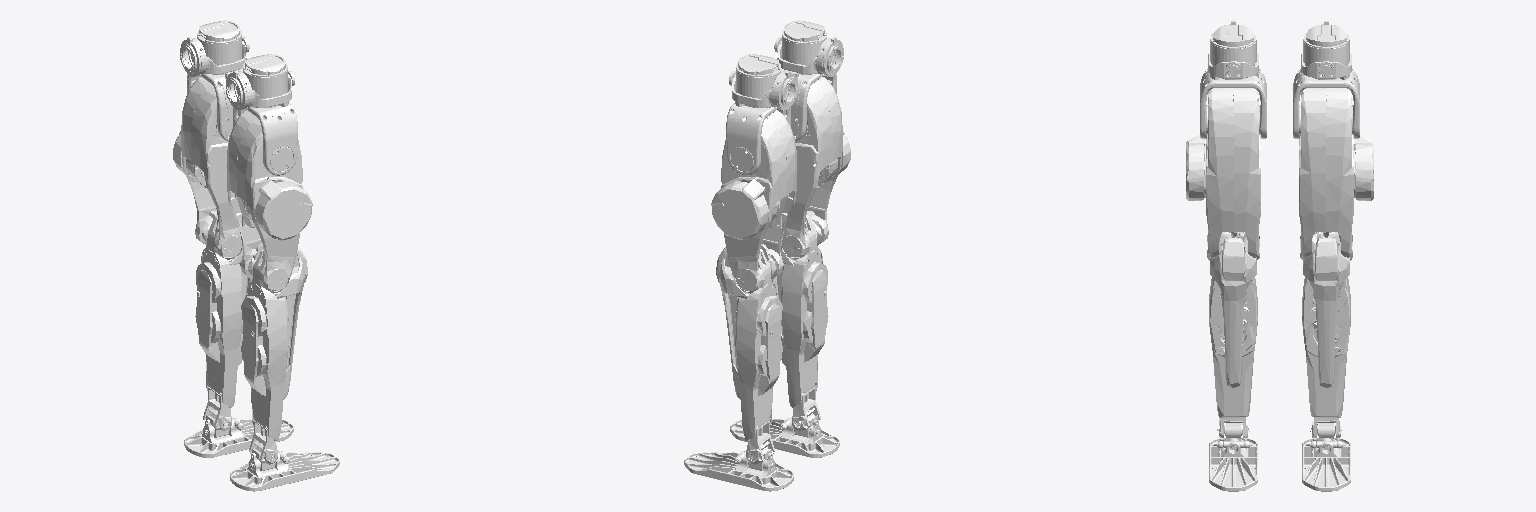
The robot description file, URDF, robot "biped_v3":
<?xml version="1.0" ?>
<!-- =================================================================================== -->
<!-- |    This document was autogenerated by xacro from /home/fandes/workspace/kuavo-ros-control/src/humanoid-control/humanoid_interface_drake/models/biped_gen4.2/urdf/biped_v3.xacro | -->
<!-- |    EDITING THIS FILE BY HAND IS NOT RECOMMENDED                                 | -->
<!-- =================================================================================== -->
<robot name="biped_v3" xmlns:drake="https://drake.mit.edu">
  <link name="torso">
   <inertial>
    <!-- 质心：( -0.05495950, -0.00028705, -0.01468007 ) -->
    <origin xyz="-0.05495950 -0.00028705 -0.01468007" rpy="0 0 0" />
    <!-- 质量：7.06404632 kg -->
    <mass value="7.06405" />
    <!-- ✅ 由重心决定，并且对齐输出的坐标系（使用负张量记数法）- 来自torso Lxx/Lyy/Lzz -->
    <inertia
      ixx="0.07432439"
      ixy="0.0"
      ixz="-0.01900645"
      iyy="0.05497594"
      iyz="0.0"
      izz="0.07548789" />
    </inertial>
    <visual>
      <origin xyz="0 0 0" rpy="0 0 0" />
      <geometry>
        <mesh filename="../../meshes/torso.STL" />
      </geometry>
      <material name="">
        <color rgba="0.752941176470588 0.752941176470588 0.752941176470588 1" />
      </material>
    </visual>
    <!-- <collision>
      <origin xyz="0 0 0" rpy="0 0 0" />
      <geometry>
        <mesh filename="../../meshes/torso.STL" />
      </geometry>
    </collision> -->
  </link>
  <link name="waist_yaw_link">
    <inertial>
      <!-- 质心：( -0.00044187, -0.00068282, 0.16674017 ) -->
      <origin xyz="0.04044187 -0.00068282 0.16674017" rpy="0 0 0" />
      <!-- 质量：17.11065787 kg -->
      <mass value="33.54346" />
      <!-- ✅ 由重心决定，并且对齐输出的坐标系（使用负张量记数法）- 来自waist_yaw Lxx/Lyy/Lzz -->
      <inertia
        ixx="0.34143343"
        ixy="0.0"
        ixz="0.0"
        iyy="0.25757527"
        iyz="0.0"
        izz="0.20167280" />
    </inertial>
    <visual>
      <origin xyz="0 0 0" rpy="0 0 0" />
      <geometry>
        <mesh filename="../../meshes/waist_yaw.STL" />
      </geometry>
      <material name="">
        <color rgba="1 1 1 1" />
      </material>
    </visual>
  </link>
  <joint name="waist_yaw_joint" type="fixed">
    <origin xyz="0 0 0.1114" rpy="0 0 0" />
    <parent link="torso" />
    <child link="waist_yaw_link" />
    <axis xyz="0 0 1" />
    <limit lower="-3.14159" upper="3.14159" effort="102.0" velocity="8.7" />
    <dynamics damping="0.02" friction="0.0" />
  </joint>
   <!-- ============ l_leg_roll ============ -->
  <!-- 坐标系：l_leg_yaw_roll -->
  <!-- 对称源：r_leg_roll (X-Z平面对称) -->
  <link name="leg_l1_link">
    <inertial>
      <!-- 质心：右腿(-0.00560896, -0.00032862, -0.00212773) -> 左腿(-0.00560896, +0.00032862, -0.00212773) -->
      <origin xyz="-0.00560896 0.00032862 -0.00212773" rpy="0 0 0" />
      <!-- 质量：1.55641268 kg -->
      <mass value="1.55641" />
      <!-- ✅ 惯性张量：由重心决定，对齐输出坐标系，负张量记数法，ixy/ixz/iyz符号取反 -->
      <inertia
        ixx="0.00191127"
        ixy="-0.00001633"      
        ixz="-0.00000320"     
        iyy="0.00254335"
        iyz="0.00000055"     
        izz="0.00260594" />
    </inertial>
    <visual>
      <origin xyz="0 0 0" rpy="0 0 0" />
      <geometry>
        <mesh filename="../../meshes/l_leg_roll.STL" />
      </geometry>
      <material name="">
        <color rgba="1 1 1 1" />
      </material>
    </visual>
  </link>
  <joint name="leg_l1_joint" type="revolute">
    <origin xyz="0.0 0.095075 -0.066" rpy="0 0 0" />
    <parent link="torso" />
    <child link="leg_l1_link" />
    <axis xyz="1 0 0" />
    <limit lower="-0.314159265358979" upper="0.663225115757845" effort="127.0" velocity="10.4" />
    <dynamics damping="0.02" friction="0.0" />
  </joint>
  <transmission type="SimpleTransmission">
    <joint name="leg_l1_joint" />
    <actuator name="leg_l1_joint_motor" />
  </transmission>
  <!-- ============ l_leg_yaw ============ -->
  <!-- 坐标系：l_leg_yaw_roll -->
  <!-- 对称源：r_leg_yaw (X-Z平面对称) -->
  <link name="leg_l2_link">
    <inertial>
      <!-- 质心：右腿(0.00006341, 0.00960017, -0.09308949) -> 左腿(0.00006341, -0.00960017, -0.09308949) -->
      <origin xyz="0.00006341 -0.00960017 -0.09308949" rpy="0 0 0" />
      <!-- 质量：0.75872512 kg -->
      <mass value="0.75873" />
      <!-- ✅ 惯性张量：由重心决定，对齐输出坐标系，负张量记数法，ixy/ixz/iyz符号取反 -->
      <inertia
        ixx="0.00348980"
        ixy="0.00000617"     
        ixz="-0.00000543"      
        iyy="0.00201021"
        iyz="-0.00030265"      
        izz="0.00236363" />
    </inertial>
    <visual>
      <origin xyz="0 0 0" rpy="0 0 0" />
      <geometry>
        <mesh filename="../../meshes/l_leg_yaw.STL" />
      </geometry>
      <material name="">
        <color rgba="1 1 1 1" />
      </material>
    </visual>
  </link>
  <joint name="leg_l2_joint" type="revolute">
    <origin xyz="0 0 0" rpy="0 0 0" />
    <parent link="leg_l1_link" />
    <child link="leg_l2_link" />
    <axis xyz="0 0 1" />
    <limit lower="-0.785398163397448" upper="1.91986217719376" effort="71.0" velocity="8.7" />
    <dynamics damping="0.02" friction="0.0" />
  </joint>
  <transmission type="SimpleTransmission">
    <joint name="leg_l2_joint" />
    <actuator name="leg_l2_joint_motor" />
  </transmission>
  <!-- ============ l_leg_pitch ============ -->
  <!-- 坐标系：l_leg_pitch -->
  <!-- 对称源：r_leg_pitch (X-Z平面对称) -->
  <link name="leg_l3_link">
    <inertial>
      <!-- 质心：右腿(0.00273544, -0.01478421, -0.09011501) -> 左腿(0.00273544, +0.01478421, -0.09011501) -->
      <origin xyz="0.00273544 0.01478421 -0.09011501" rpy="0 0 0" />
      <!-- 质量：6.68074305 kg -->
      <mass value="6.68074" />
      <!-- ✅ 惯性张量：由重心决定，对齐输出坐标系，负张量记数法，ixy/ixz/iyz符号取反 -->
      <inertia
        ixx="0.06155086"
        ixy="0.00016595"      
        ixz="-0.00169943"      
        iyy="0.05999156"
        iyz="0.00073898"     
        izz="0.01575336" />
    </inertial>
    <visual>
      <origin xyz="0 0 0" rpy="0 0 0" />
      <geometry>
        <mesh filename="../../meshes/l_leg_pitch.STL" />
      </geometry>
      <material name="">
        <color rgba="1 1 1 1" />
      </material>
    </visual>
  </link>
  <joint name="leg_l3_joint" type="revolute">
    <origin xyz="0 0 -0.1437" rpy="0 0 0" />
    <parent link="leg_l2_link" />
    <child link="leg_l3_link" />
    <axis xyz="0 1 0" />
    <limit lower="-1.91986217719376" upper="1.5707963267949" effort="132" velocity="12.7" />
    <dynamics damping="0.02" friction="0.0" />
  </joint>
  <transmission type="SimpleTransmission">
    <joint name="leg_l3_joint" />
    <actuator name="leg_l3_joint_motor" />
  </transmission>
  <!-- ============ l_knee ============ -->
  <!-- 坐标系：l_knee -->
  <!-- 对称源：r_knee (X-Z平面对称) -->
  <link name="leg_l4_link">
    <inertial>
      <!-- 质心：右腿(0.00684787, -0.00006281, -0.16262733) -> 左腿(0.00684787, +0.00006281, -0.16262733) -->
      <origin xyz="0.00684787 0.00006281 -0.16262733" rpy="0 0 0" />
      <!-- 质量：3.64665831 kg -->
      <mass value="3.64666" />
      <!-- ✅ 惯性张量：由重心决定，对齐输出坐标系，负张量记数法，ixy/ixz/iyz符号取反 -->
      <inertia
        ixx="0.04372691"
        ixy="0.00000494"     
        ixz="0.00053020"      
        iyy="0.04357016"
        iyz="-0.00006946"      
        izz="0.00246985" />
    </inertial>
    <visual>
      <origin xyz="0 0 0" rpy="0 0 0" />
      <geometry>
        <mesh filename="../../meshes/l_knee.STL" />
      </geometry>
      <material name="">
        <color rgba="1 1 1 1" />
      </material>
    </visual>
  </link>
  <joint name="leg_l4_joint" type="revolute">
    <origin xyz="-0.0011639 0 -0.284" rpy="0 0 0" />
    <parent link="leg_l3_link" />
    <child link="leg_l4_link" />
    <axis xyz="0 1 0" />
    <limit lower="0.0" upper="2.53072741539178" effort="280.0" velocity="10.4" />
    <dynamics damping="0.02" friction="0.0" />
  </joint>
  <transmission type="SimpleTransmission">
    <joint name="leg_l4_joint" />
    <actuator name="leg_l4_joint_motor" />
  </transmission>
  <!-- ============ l_foot_pitch ============ -->
  <!-- 坐标系：l_foot_pitch_roll -->
  <!-- 对称源：r_foot_pitch (完全对称) -->
  <link name="leg_l5_link">
    <inertial>
      <origin xyz="0.00000366 0.00000000 -0.01009408" rpy="0 0 0" />
      <mass value="0.33065201" />
      <inertia
        ixx="0.00009895"
        ixy="0.00000000"
        ixz="-0.00000221"
        iyy="0.00010782"
        iyz="0.00000000"
        izz="0.00007010" />
    </inertial>
    <visual>
      <origin xyz="0 0 0" rpy="0 0 0" />
      <geometry>
        <mesh filename="../../meshes/l_foot_pitch.STL" />
      </geometry>
      <material name="">
        <color rgba="1 1 1 1" />
      </material>
    </visual>
  </link>
  <joint name="leg_l5_joint" type="revolute">
    <origin xyz="0.00 0 -0.416" rpy="0 0 0" />
    <parent link="leg_l4_link" />
    <child link="leg_l5_link" />
    <axis xyz="0 1 0" />
    <limit lower="-0.872664625997165" upper="0.349065850398866" effort="91.6" velocity="17.8" />
    <dynamics damping="0.02" friction="0.0" />
  </joint>
  <transmission type="SimpleTransmission">
    <joint name="leg_l5_joint" />
    <actuator name="leg_l5_joint_motor" />
  </transmission>
  <!-- ============ l_foot_roll ============ -->
  <!-- 坐标系：l_foot_pitch_roll -->
  <!-- 对称源：r_foot_roll (完全对称，用户覆盖值相同) -->
  <link name="leg_l6_link">
    <inertial>
      <origin xyz="0.02559622 0.00000252 -0.01847798" rpy="0 0 0" />
      <mass value="0.85589925" />
      <inertia
        ixx="0.00064292"
        ixy="-0.00000015"
        ixz="0.00015309"
        iyy="0.00224000"
        iyz="0.00000000"
        izz="0.00249840" />
    </inertial>
    <visual>
      <origin xyz="0 0 0" rpy="0 0 0" />
      <geometry>
        <mesh filename="../../meshes/l_foot_roll.STL" />
      </geometry>
      <material name="">
        <color rgba="1 1 1 1" />
      </material>
    </visual>
  </link>
  <joint name="leg_l6_joint" type="revolute">
    <origin xyz="0 0 -0.023" rpy="0 0 0" />
    <parent link="leg_l5_link" />
    <child link="leg_l6_link" />
    <axis xyz="1 0 0" />
    <limit lower="-0.261799387799149" upper="0.261799387799149" effort="30.0" velocity="17.8" />
    <dynamics damping="0.02" friction="0.0" />
  </joint>
  <transmission type="SimpleTransmission">
    <joint name="leg_l6_joint" />
    <actuator name="leg_l6_joint_motor" />
  </transmission>
  <frame link="leg_l6_link" name="l_foot_sole" xyz="0.04883799999999999 0.0 -0.0365" />
  <frame link="leg_l6_link" name="l_foot_toe" xyz="0.17084 0.0 -0.0365" />
  <frame link="leg_l6_link" name="l_foot_heel" xyz="-0.073164 0.0 -0.0365" />
  <!-- ============ r_leg_roll ============ -->
  <!-- 坐标系：r_leg_roll_yaw -->
  <link name="leg_r1_link">
    <inertial>
      <!-- 质心：( -0.00560896, -0.00032862, -0.00212773 ) -->
      <origin xyz="-0.00560896 -0.00032862 -0.00212773" rpy="0 0 0" />
      <!-- 质量：1.55641268 kg -->
      <mass value="1.55641" />
      <!-- ✅ 由重心决定，并且对齐输出的坐标系（使用负张量记数法） -->
      <inertia
        ixx="0.00191127"
        ixy="0.00001633"
        ixz="0.00000320"
        iyy="0.00254335"
        iyz="-0.00000055"
        izz="0.00260594" />
    </inertial>
    <visual>
      <origin xyz="0 0 0" rpy="0 0 0" />
      <geometry>
        <mesh filename="../../meshes/r_leg_roll.STL" />
      </geometry>
      <material name="">
        <color rgba="1 1 1 1" />
      </material>
    </visual>
  </link>
  <joint name="leg_r1_joint" type="revolute">
    <origin xyz="0.0 -0.095075 -0.066" rpy="0 0 0" />
    <parent link="torso" />
    <child link="leg_r1_link" />
    <axis xyz="1 0 0" />
    <limit lower="-0.663225115757845" upper="0.314159265358979" effort="127.0" velocity="10.4" />
    <dynamics damping="0.02" friction="0.0" />
  </joint>
  <transmission type="SimpleTransmission">
    <joint name="leg_r1_joint" />
    <actuator name="leg_r1_joint_motor" />
  </transmission>
  <!-- ============ r_leg_yaw ============ -->
  <!-- 坐标系：r_leg_roll_yaw -->
  <link name="leg_r2_link">
    <inertial>
      <!-- 质心：( 0.00006341, 0.00960017, -0.09308949 ) -->
      <origin xyz="0.00006341 0.00960017 -0.09308949" rpy="0 0 0" />
      <!-- 质量：0.75872512 kg -->
      <mass value="0.75873" />
      <!-- ✅ 由重心决定，并且对齐输出的坐标系（使用负张量记数法） -->
      <inertia
        ixx="0.00348980"
        ixy="-0.00000617"
        ixz="0.00000543"
        iyy="0.00201021"
        iyz="0.00030265"
        izz="0.00236363" />
    </inertial>
    <visual>
      <origin xyz="0 0 0" rpy="0 0 0" />
      <geometry>
        <mesh filename="../../meshes/r_leg_yaw.STL" />
      </geometry>
      <material name="">
        <color rgba="1 1 1 1" />
      </material>
    </visual>
  </link>
  <joint name="leg_r2_joint" type="revolute">
    <origin xyz="0 0 0" rpy="0 0 0" />
    <parent link="leg_r1_link" />
    <child link="leg_r2_link" />
    <axis xyz="0 0 1" />
    <limit lower="-1.91986217719376" upper="0.785398163397448" effort="71.0" velocity="8.7" />
    <dynamics damping="0.02" friction="0.0" />
  </joint>
  <transmission type="SimpleTransmission">
    <joint name="leg_r2_joint" />
    <actuator name="leg_r2_joint_motor" />
  </transmission>
  <!-- ============ r_leg_pitch ============ -->
  <!-- 坐标系：r_leg_pitch -->
  <link name="leg_r3_link">
    <inertial>
      <!-- 质心：( 0.00273544, -0.01478421, -0.09011501 ) -->
      <origin xyz="0.00273544 -0.01478421 -0.09011501" rpy="0 0 0" />
      <!-- 质量：6.68074305 kg -->
      <mass value="6.68074" />
      <!-- ✅ 由重心决定，并且对齐输出的坐标系（使用负张量记数法） -->
      <inertia
        ixx="0.06155086"
        ixy="-0.00016595"
        ixz="0.00169943"
        iyy="0.05999156"
        iyz="-0.00073898"
        izz="0.01575336" />
    </inertial>
    <visual>
      <origin xyz="0 0 0" rpy="0 0 0" />
      <geometry>
        <mesh filename="../../meshes/r_leg_pitch.STL" />
      </geometry>
      <material name="">
        <color rgba="1 1 1 1" />
      </material>
    </visual>
  </link>
  <joint name="leg_r3_joint" type="revolute">
    <origin xyz="0 0 -0.1437" rpy="0 0 0" />
    <parent link="leg_r2_link" />
    <child link="leg_r3_link" />
    <axis xyz="0 1 0" />
    <limit lower="-1.91986217719376" upper="1.5707963267949" effort="132.0" velocity="12.7" />
    <dynamics damping="0.02" friction="0.0" />
  </joint>
  <transmission type="SimpleTransmission">
    <joint name="leg_r3_joint" />
    <actuator name="leg_r3_joint_motor" />
  </transmission>
  <!-- ============ r_knee ============ -->
  <!-- 坐标系：r_knee -->
  <link name="leg_r4_link">
    <inertial>
      <!-- 质心：( 0.00684787, -0.00006281, -0.16262733 ) -->
      <origin xyz="0.00684787 -0.00006281 -0.16262733" rpy="0 0 0" />
      <!-- 质量：3.64665831 kg -->
      <mass value="3.64666" />
      <!-- ✅ 由重心决定，并且对齐输出的坐标系（使用负张量记数法） -->
      <inertia
        ixx="0.04372691"
        ixy="-0.00000494"
        ixz="-0.00053020"
        iyy="0.04357016"
        iyz="0.00006946"
        izz="0.00246985" />
    </inertial>
    <visual>
      <origin xyz="0 0 0" rpy="0 0 0" />
      <geometry>
        <mesh filename="../../meshes/r_knee.STL" />
      </geometry>
      <material name="">
        <color rgba="1 1 1 1" />
      </material>
    </visual>
  </link>
  <joint name="leg_r4_joint" type="revolute">
    <origin xyz="-0.0011639 0 -0.284" rpy="0 0 0" />
    <parent link="leg_r3_link" />
    <child link="leg_r4_link" />
    <axis xyz="0 1 0" />
    <limit lower="0.0" upper="2.53072741539178" effort="280.0" velocity="10.4" />
    <dynamics damping="0.02" friction="0.0" />
  </joint>
  <transmission type="SimpleTransmission">
    <joint name="leg_r4_joint" />
    <actuator name="leg_r4_joint_motor" />
  </transmission>
  <!-- ============ r_foot_pitch ============ -->
  <!-- 坐标系：r_foot_pitch_roll -->
  <link name="leg_r5_link">
    <inertial>
      <!-- 质心：( 0, 0, 0 ) -->
      <origin xyz="0.00000366 0.00000000 -0.01009408" rpy="0 0 0" />
      <!-- 质量：0.07848005 kg -->
      <mass value="0.33065201" />
      <!-- ✅ 由重心决定，并且对齐输出的坐标系（使用负张量记数法）- 与输出坐标系相同因为质心在原点 -->
      <inertia
        ixx="0.00009895"
        ixy="0.00000000"
        ixz="-0.00000221"
        iyy="0.00010782"
        iyz="0.00000000"
        izz="0.00007010" />
    </inertial>
    <visual>
      <origin xyz="0 0 0" rpy="0 0 0" />
      <geometry>
        <mesh filename="../../meshes/r_foot_pitch.STL" />
      </geometry>
      <material name="">
        <color rgba="1 1 1 1" />
      </material>
    </visual>
  </link>
  <joint name="leg_r5_joint" type="revolute">
    <origin xyz="0.000 0 -0.416" rpy="0 0 0" />
    <parent link="leg_r4_link" />
    <child link="leg_r5_link" />
    <axis xyz="0 1 0" />
    <limit lower="-0.872664625997165" upper="0.349065850398866" effort="91.6" velocity="17.8" />
    <dynamics damping="0.02" friction="0.0" />
  </joint>
  <transmission type="SimpleTransmission">
    <joint name="leg_r5_joint" />
    <actuator name="leg_r5_joint_motor" />
  </transmission>
  <!-- ============ r_foot_roll ============ -->
  <!-- 坐标系：r_foot_pitch_roll -->
  <link name="leg_r6_link">
    <inertial>
      <!-- 质心（用户覆盖）：( 0.02655895, -0.00004538, -0.03373024 ) -->
      <origin xyz="0.02559622 0.00000252 -0.01847798" rpy="0 0 0" />
      <!-- 质量（用户覆盖）：0.69242441 kg -->
      <mass value="0.85589925" />
      <!-- ✅ 由重心决定，并且对齐输出的坐标系（使用负张量记数法） -->
      <inertia
        ixx="0.00064292"
        ixy="0.00000015"
        ixz="0.00015309"
        iyy="0.00224000"
        iyz="0.00000000"
        izz="0.00249840" />
    </inertial>
    <visual>
      <origin xyz="0 0 0" rpy="0 0 0" />
      <geometry>
        <mesh filename="../../meshes/r_foot_roll.STL" />
      </geometry>
      <material name="">
        <color rgba="1 1 1 1" />
      </material>
    </visual>
  </link>
  <joint name="leg_r6_joint" type="revolute">
    <origin xyz="0 0 -0.023" rpy="0 0 0" />
    <parent link="leg_r5_link" />
    <child link="leg_r6_link" />
    <axis xyz="1 0 0" />
    <limit lower="-0.261799387799149" upper="0.261799387799149" effort="30.0" velocity="17.8" />
    <dynamics damping="0.02" friction="0.0" />
  </joint>
  <transmission type="SimpleTransmission">
    <joint name="leg_r6_joint" />
    <actuator name="leg_r6_joint_motor" />
  </transmission>
  <frame link="leg_r6_link" name="r_foot_sole" xyz="0.04883799999999999 0.0 -0.0365" />
  <frame link="leg_r6_link" name="r_foot_toe" xyz="0.17084 0.0 -0.0365" />
  <frame link="leg_r6_link" name="r_foot_heel" xyz="-0.073164 0.0 -0.0365" />
</robot>

--- Render facts (derived) ---
Views: 3 orthographic renders of the robot side by side, from view 1: azimuth 30°, elevation 25°; view 2: azimuth 150°, elevation 25°; view 3: azimuth 270°, elevation 25°.
Robot: biped_v3 — 14 links, 13 joints (12 revolute, 1 fixed); root link torso; default pose: every joint at zero.
Visible links, largest first — view 1: leg_r3_link, leg_r4_link, leg_l4_link, leg_l3_link, leg_r1_link, leg_l1_link, leg_r6_link, leg_r2_link, leg_l6_link, leg_l2_link; view 2: leg_l3_link, leg_l4_link, leg_r4_link, leg_r3_link, leg_l1_link, leg_r1_link, leg_l6_link, leg_l2_link, leg_r6_link, leg_r2_link; view 3: leg_l3_link, leg_r3_link, leg_l4_link, leg_r4_link, leg_l1_link, leg_r1_link, leg_l6_link, leg_r6_link, leg_l2_link, leg_r2_link.
Boxes of the visible links, bbox=[...] form: leg_r3_link: bbox=[226, 110, 312, 293]; leg_r4_link: bbox=[241, 244, 307, 464]; leg_l4_link: bbox=[195, 215, 251, 430]; leg_l3_link: bbox=[173, 77, 242, 259]; leg_r1_link: bbox=[226, 54, 294, 110]; leg_l1_link: bbox=[180, 20, 249, 76]; leg_r6_link: bbox=[230, 451, 339, 491]; leg_r2_link: bbox=[233, 103, 297, 175]; leg_l6_link: bbox=[184, 416, 293, 457]; leg_l2_link: bbox=[187, 69, 242, 141]; leg_l3_link: bbox=[711, 110, 797, 293]; leg_l4_link: bbox=[716, 244, 782, 464]; leg_r4_link: bbox=[772, 215, 828, 430]; leg_r3_link: bbox=[781, 77, 850, 259]; leg_l1_link: bbox=[729, 54, 797, 110]; leg_r1_link: bbox=[774, 20, 843, 76]; leg_l6_link: bbox=[684, 451, 793, 491]; leg_l2_link: bbox=[726, 103, 790, 175]; leg_r6_link: bbox=[730, 416, 839, 457]; leg_r2_link: bbox=[781, 69, 836, 141]; leg_l3_link: bbox=[1299, 88, 1373, 260]; leg_r3_link: bbox=[1186, 88, 1260, 260]; leg_l4_link: bbox=[1302, 232, 1350, 437]; leg_r4_link: bbox=[1209, 232, 1257, 437]; leg_l1_link: bbox=[1301, 20, 1351, 79]; leg_r1_link: bbox=[1208, 20, 1258, 79]; leg_l6_link: bbox=[1302, 438, 1350, 491]; leg_r6_link: bbox=[1209, 438, 1257, 491]; leg_l2_link: bbox=[1293, 69, 1359, 138]; leg_r2_link: bbox=[1200, 69, 1266, 138].
Bounding box of the posed robot: 0.249 × 0.3836 × 0.9557 m (x, y, z).
Meshes: 14 distinct files referenced, 12 mesh visuals loaded (12 binary STL); not drawn: 2 (reference not matched to a file when rendering).
